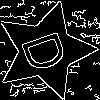D: (20, 25, 78, 75)
